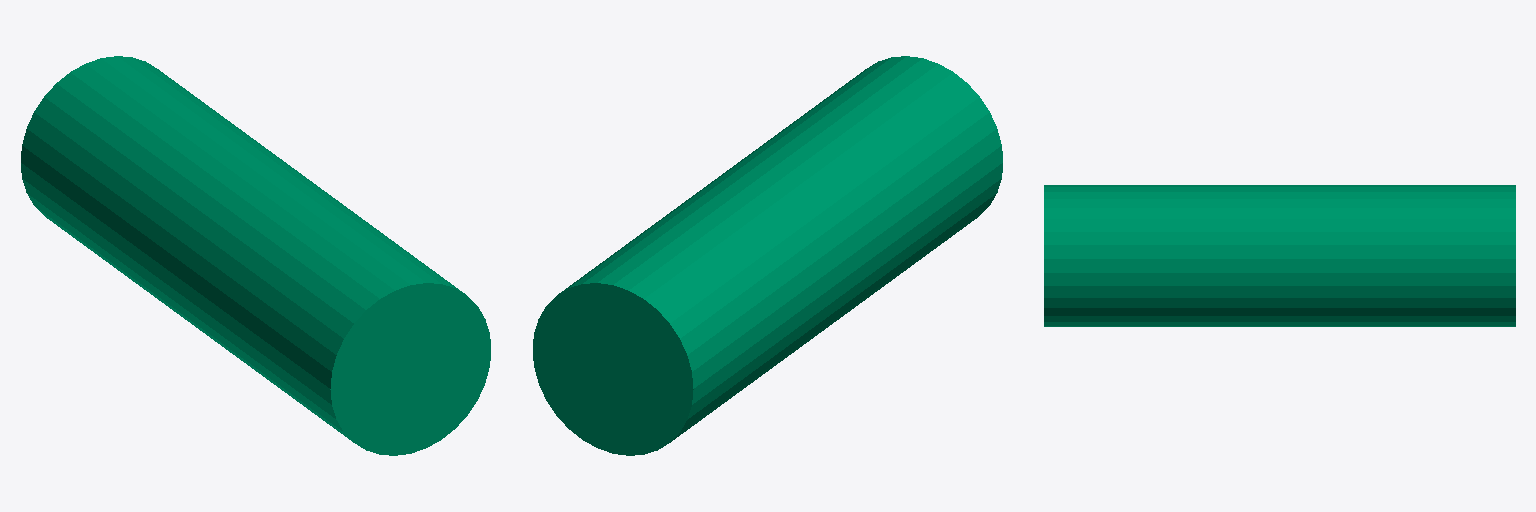
The robot description file, URDF, robot "panda":
<?xml version="1.0" ?>
<!-- =================================================================================== -->
<!-- |    This document was autogenerated by xacro from panda_arm_hand.urdf.xacro      | -->
<!-- |    EDITING THIS FILE BY HAND IS NOT RECOMMENDED                                 | -->
<!-- =================================================================================== -->
<robot name="panda" xmlns:xacro="http://www.ros.org/wiki/xacro">
  <link name="panda_link0">
    <visual>
      <geometry>
        <mesh filename="meshes/visual/link0.dae"/>
      </geometry>
    </visual>
    <collision>
      <geometry>
        <mesh filename="meshes/collision/link0.stl"/>
      </geometry>
    </collision>
  </link>
  <link name="panda_link1">
    <visual>
      <geometry>
        <mesh filename="meshes/visual/link1.dae"/>
      </geometry>
    </visual>
    <collision>
      <geometry>
        <mesh filename="meshes/collision/link1.stl"/>
      </geometry>
    </collision>
  </link>
  <joint name="panda_joint1" type="revolute">
    <safety_controller k_position="100.0" k_velocity="40.0" soft_lower_limit="-2.8973" soft_upper_limit="2.8973"/>
    <origin rpy="0 0 0" xyz="0 0 0.333"/>
    <parent link="panda_link0"/>
    <child link="panda_link1"/>
    <axis xyz="0 0 1"/>
    <limit effort="87" lower="-2.8973" upper="2.8973" velocity="2.1750"/>
  </joint>
  <link name="panda_link2">
    <visual>
      <geometry>
        <mesh filename="meshes/visual/link2.dae"/>
      </geometry>
    </visual>
    <collision>
      <geometry>
        <mesh filename="meshes/collision/link2.stl"/>
      </geometry>
    </collision>
  </link>
  <joint name="panda_joint2" type="revolute">
    <safety_controller k_position="100.0" k_velocity="40.0" soft_lower_limit="-1.7628" soft_upper_limit="1.7628"/>
    <origin rpy="-1.57079632679 0 0" xyz="0 0 0"/>
    <parent link="panda_link1"/>
    <child link="panda_link2"/>
    <axis xyz="0 0 1"/>
    <limit effort="87" lower="-1.7628" upper="1.7628" velocity="2.1750"/>
  </joint>
  <link name="panda_link3">
    <visual>
      <geometry>
        <mesh filename="meshes/visual/link3.dae"/>
      </geometry>
    </visual>
    <collision>
      <geometry>
        <mesh filename="meshes/collision/link3.stl"/>
      </geometry>
    </collision>
  </link>
  <joint name="panda_joint3" type="revolute">
    <safety_controller k_position="100.0" k_velocity="40.0" soft_lower_limit="-2.8973" soft_upper_limit="2.8973"/>
    <origin rpy="1.57079632679 0 0" xyz="0 -0.316 0"/>
    <parent link="panda_link2"/>
    <child link="panda_link3"/>
    <axis xyz="0 0 1"/>
    <limit effort="87" lower="-2.8973" upper="2.8973" velocity="2.1750"/>
  </joint>
  <link name="panda_link4">
    <visual>
      <geometry>
        <mesh filename="meshes/visual/link4.dae"/>
      </geometry>
    </visual>
    <collision>
      <geometry>
        <mesh filename="meshes/collision/link4.stl"/>
      </geometry>
    </collision>
  </link>
  <joint name="panda_joint4" type="revolute">
    <safety_controller k_position="100.0" k_velocity="40.0" soft_lower_limit="-3.0718" soft_upper_limit="-0.0698"/>
    <origin rpy="1.57079632679 0 0" xyz="0.0825 0 0"/>
    <parent link="panda_link3"/>
    <child link="panda_link4"/>
    <axis xyz="0 0 1"/>
    <limit effort="87" lower="-3.0718" upper="-0.0698" velocity="2.1750"/>
  </joint>
  <link name="panda_link5">
    <visual>
      <geometry>
        <mesh filename="meshes/visual/link5.dae"/>
      </geometry>
    </visual>
    <collision>
      <geometry>
        <mesh filename="meshes/collision/link5.stl"/>
      </geometry>
    </collision>
  </link>
  <joint name="panda_joint5" type="revolute">
    <safety_controller k_position="100.0" k_velocity="40.0" soft_lower_limit="-2.8973" soft_upper_limit="2.8973"/>
    <origin rpy="-1.57079632679 0 0" xyz="-0.0825 0.384 0"/>
    <parent link="panda_link4"/>
    <child link="panda_link5"/>
    <axis xyz="0 0 1"/>
    <limit effort="12" lower="-2.8973" upper="2.8973" velocity="2.6100"/>
  </joint>
  <link name="panda_link6">
    <visual>
      <geometry>
        <mesh filename="meshes/visual/link6.dae"/>
      </geometry>
    </visual>
    <collision>
      <geometry>
        <mesh filename="meshes/collision/link6.stl"/>
      </geometry>
    </collision>
  </link>
  <joint name="panda_joint6" type="revolute">
    <safety_controller k_position="100.0" k_velocity="40.0" soft_lower_limit="-0.0175" soft_upper_limit="3.7525"/>
    <origin rpy="1.57079632679 0 0" xyz="0 0 0"/>
    <parent link="panda_link5"/>
    <child link="panda_link6"/>
    <axis xyz="0 0 1"/>
    <limit effort="12" lower="-0.0175" upper="3.7525" velocity="2.6100"/>
  </joint>
  <link name="panda_link7">
    <visual>
      <geometry>
        <mesh filename="meshes/visual/link7.dae"/>
      </geometry>
    </visual>
    <collision>
      <geometry>
        <mesh filename="meshes/collision/link7.stl"/>
      </geometry>
    </collision>
  </link>
  <joint name="panda_joint7" type="revolute">
    <safety_controller k_position="100.0" k_velocity="40.0" soft_lower_limit="-2.8973" soft_upper_limit="2.8973"/>
    <origin rpy="1.57079632679 0 0" xyz="0.088 0 0"/>
    <parent link="panda_link6"/>
    <child link="panda_link7"/>
    <axis xyz="0 0 1"/>
    <limit effort="12" lower="-2.8973" upper="2.8973" velocity="2.6100"/>
  </joint>
  <link name="panda_link8"/>
  <joint name="panda_joint8" type="fixed">
    <origin rpy="0 0 0" xyz="0 0 0.107"/>
    <parent link="panda_link7"/>
    <child link="panda_link8"/>
    <axis xyz="0 0 0"/>
  </joint>
  <joint name="panda_hand_joint" type="fixed">
    <parent link="panda_link8"/>
    <child link="panda_hand"/>
    <origin rpy="0 0 -0.785398163397" xyz="0 0 0"/>
  </joint>
  <link name="panda_hand">
    <visual>
      <geometry>
        <mesh filename="meshes/visual/hand.dae"/>
      </geometry>
    </visual>
    <collision>
      <geometry>
        <mesh filename="meshes/collision/hand.stl"/>
      </geometry>
    </collision>
  </link>
  <link name="panda_leftfinger">
    <visual>
      <geometry>
        <mesh filename="meshes/visual/finger.dae"/>
      </geometry>
    </visual>
    <collision>
      <geometry>
        <mesh filename="meshes/collision/finger.stl"/>
      </geometry>
    </collision>
  </link>
  <link name="panda_rightfinger">
    <visual>
      <origin rpy="0 0 3.14159265359" xyz="0 0 0"/>
      <geometry>
        <mesh filename="meshes/visual/finger.dae"/>
      </geometry>
    </visual>
    <collision>
      <origin rpy="0 0 3.14159265359" xyz="0 0 0"/>
      <geometry>
        <mesh filename="meshes/collision/finger.stl"/>
      </geometry>
    </collision>
  </link>
  <joint name="panda_finger_joint1" type="prismatic">
    <parent link="panda_hand"/>
    <child link="panda_leftfinger"/>
    <origin rpy="0 0 0" xyz="0 0 0.0584"/>
    <axis xyz="0 1 0"/>
    <limit effort="20" lower="0.0" upper="0.04" velocity="0.2"/>
  </joint>
  <joint name="panda_finger_joint2" type="prismatic">
    <parent link="panda_hand"/>
    <child link="panda_rightfinger"/>
    <origin rpy="0 0 0" xyz="0 0 0.0584"/>
    <axis xyz="0 -1 0"/>
    <limit effort="20" lower="0.0" upper="0.04" velocity="0.2"/>
    <mimic joint="panda_finger_joint1"/>
  </joint>
  <link name="tool_link"/>
  <joint name="tool_joint" type="fixed">
    <origin rpy="0 0 2.35619449019" xyz="0.0 0 0.1"/>
    <axis xyz="0 0 1"/>
    <parent link="panda_link8"/>
    <child link="tool_link"/>
  </joint>
</robot>

--- Render facts (derived) ---
3 views of the same robot in one strip: view 1: azimuth 30°, elevation 25°; view 2: azimuth 150°, elevation 25°; view 3: azimuth 270°, elevation 25° (orthographic).
Model panda with 13 links and 12 joints (7 revolute, 2 prismatic, 3 fixed), rooted at panda_link0, posed joints at zero except 1 at the middle of their limits (panda_joint4 = -1.57).
Visible links, largest first — view 1: panda_link2; view 2: panda_link2; view 3: panda_link2.
Boxes of the visible links, x1,y1,x2,y2 form: panda_link2: (21, 56, 490, 455); panda_link2: (533, 56, 1002, 455); panda_link2: (1044, 185, 1515, 326).
Bounding box of the posed robot: 0.06 × 0.2 × 0.06 m (x, y, z).
1 mesh visuals loaded from 10 distinct referenced files (1 Collada DAE); not drawn: 10 (reference not matched to a file when rendering).